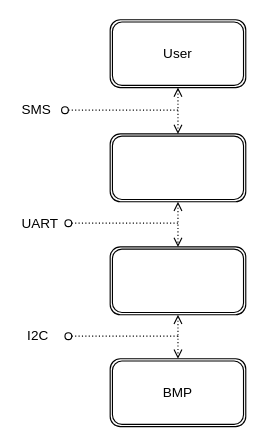
This 266x446 diagram has some shape labels left out. The shapes that lost their labels are listed below. From the top down, each one's centre as x and y in pixels, then its label:
At point 177,167: "MC35 (GSM)".
At point 177,280: "ATmega32".
